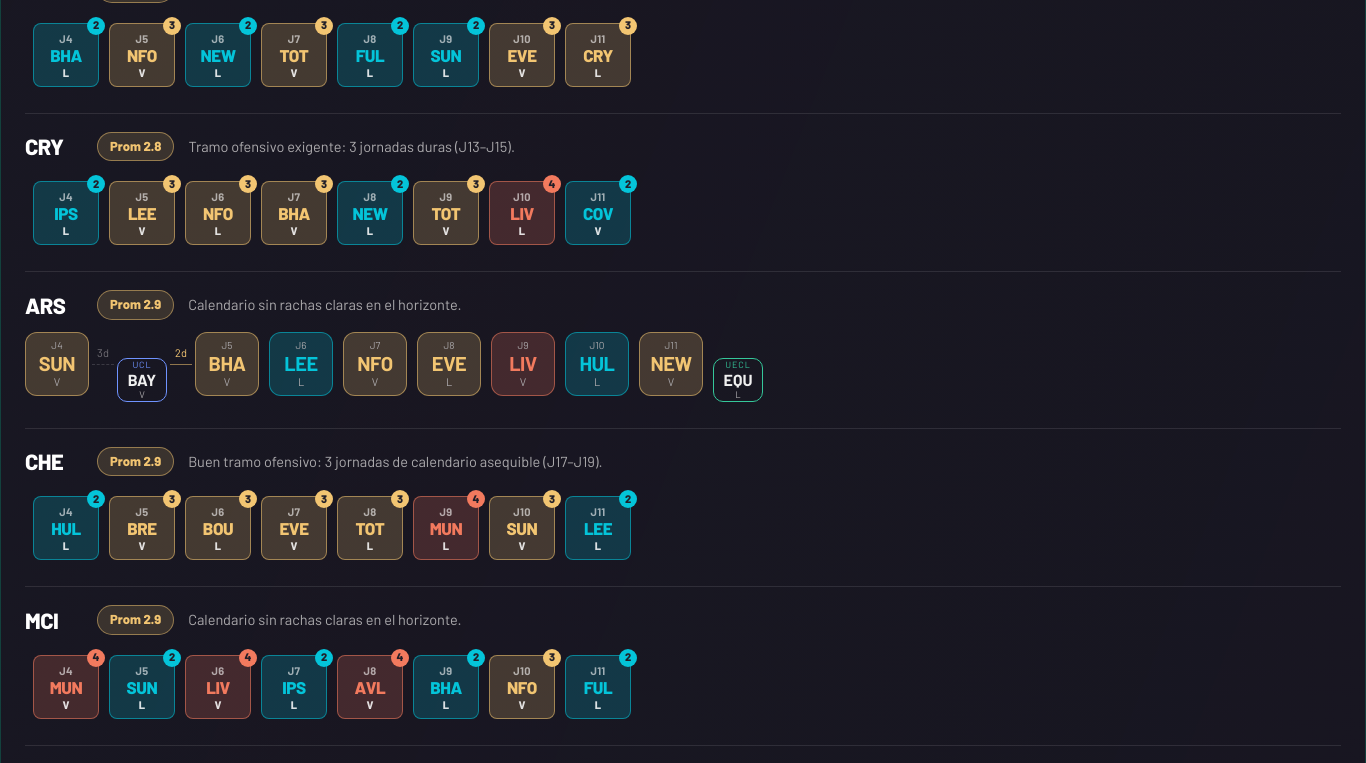
it: FixturesBoard multi-competition layer (timeline) › curated European layer: the partial-coverage stamp, the hours in the notice, «hora por verificar»
The width and height of the screenshot is (1366, 763).
(page scrolled)
Click the button with test id "competition-tile" showing "UECL EQU L".
click(738, 380)  # box [713,358,763,402]
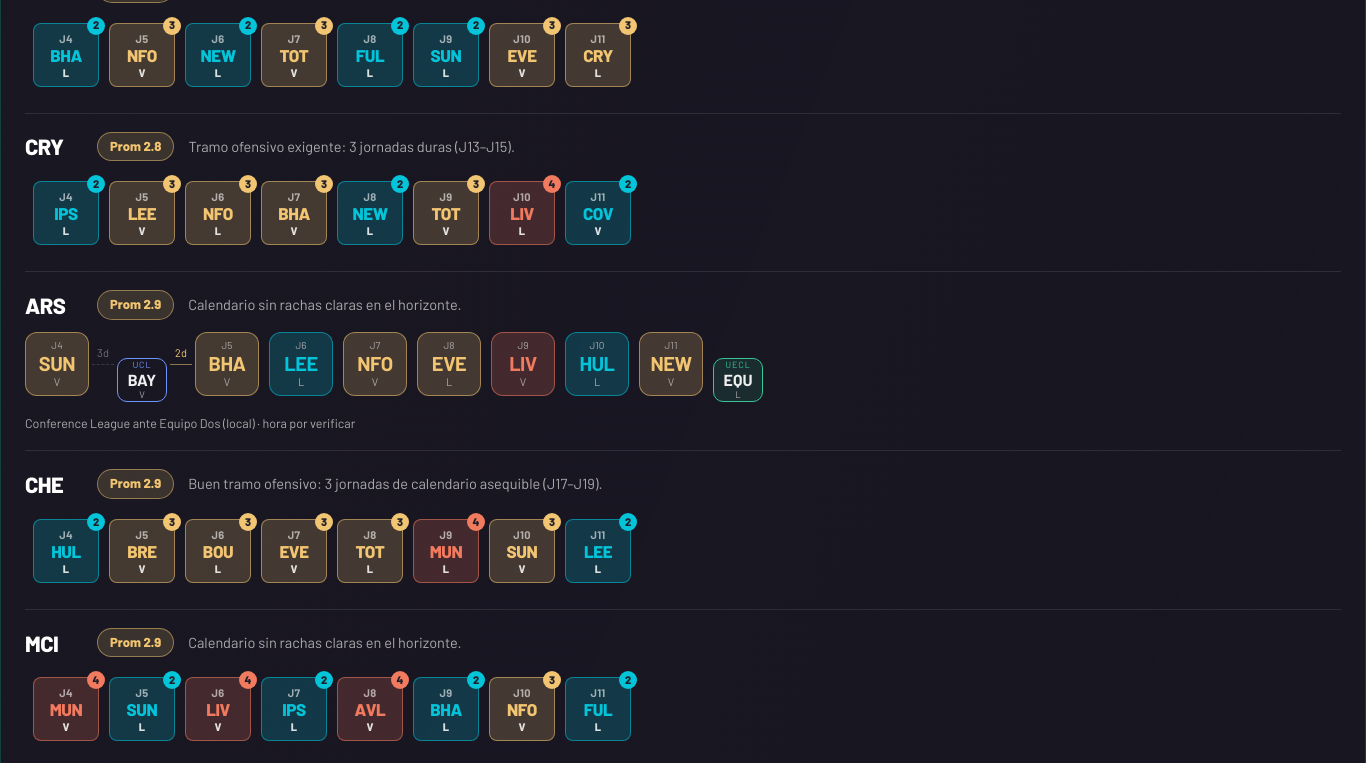
Expected: the message with test id "competition-detail" reads "Conference League ante Equipo Dos (local) · hora por verificar", [25,415,355,431]
Click the button with test id "competition-tile" showing "UCL BAY V".
click(142, 380)  # box [117,358,167,402]
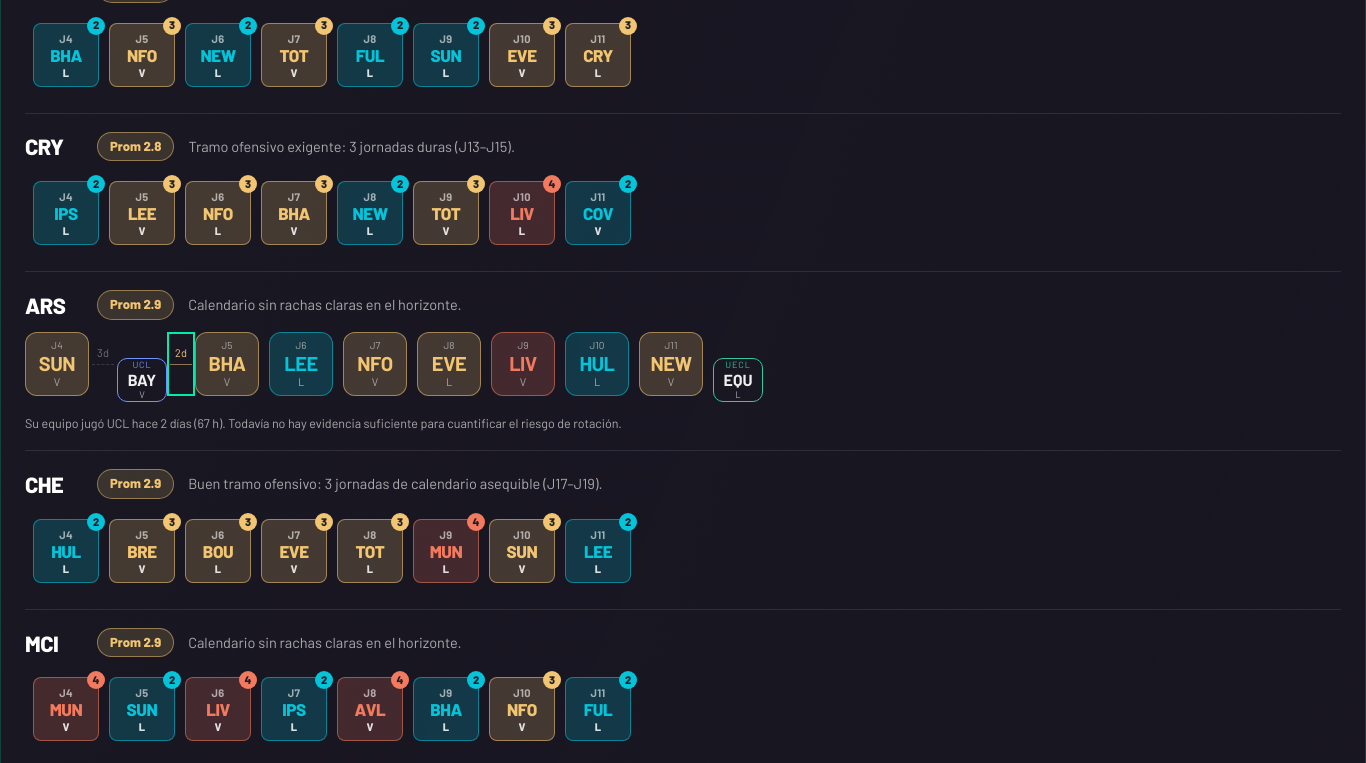
Expected: the message with test id "competition-detail" no longer shows "verificar", [25,415,622,431]
Expected: the message with test id "competition-detail" shows "Su equipo jugó UCL hace 2 días (67 h).", [25,415,622,431]
